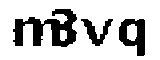3: (56, 5, 78, 52)
m: (10, 17, 60, 48)
q: (117, 15, 149, 60)
v: (80, 14, 112, 48)
